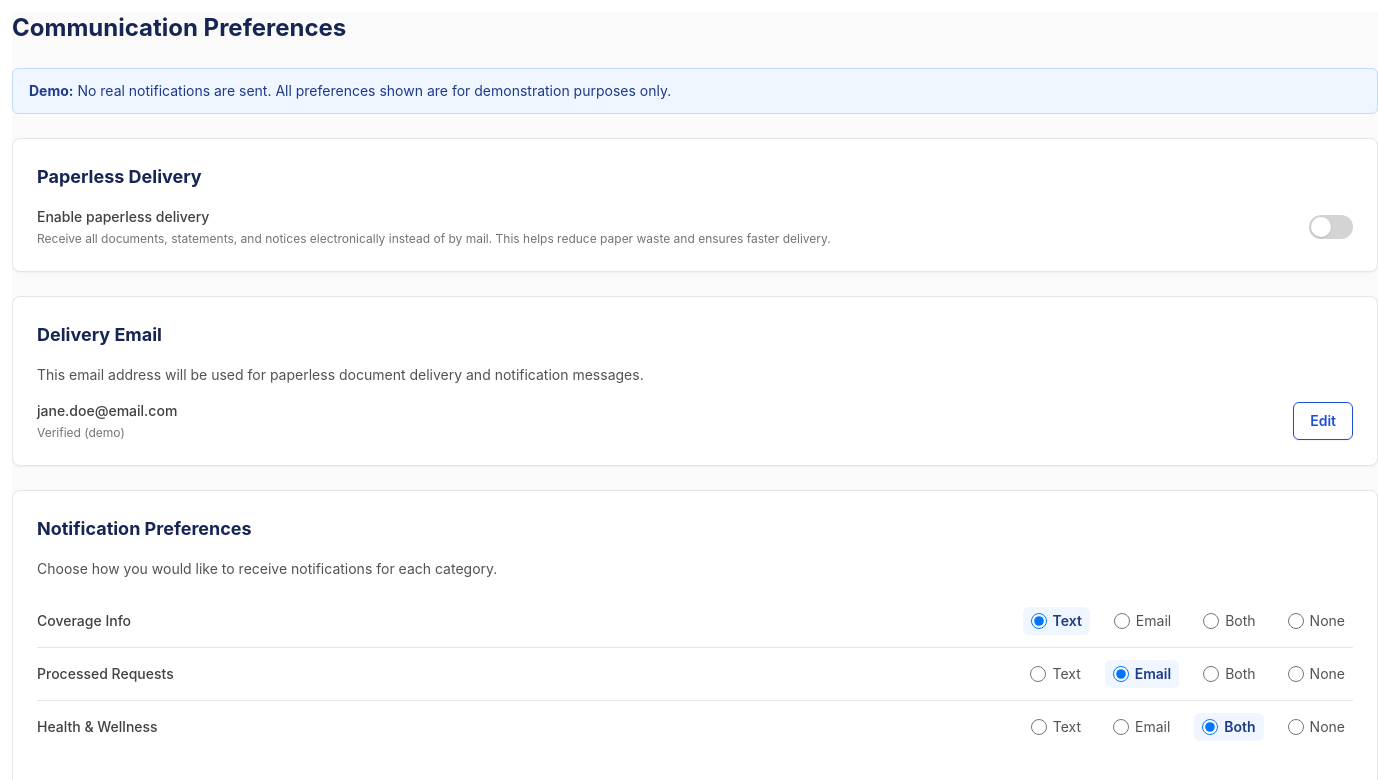
Scenario: CommunicationPreferencesPage › shows email edit form when Edit is clicked
The width and height of the screenshot is (1378, 780).
# Click the edit button in the delivery email section
Click the button "Edit" at {"x": 1323, "y": 421}, box [1293,402,1353,440]
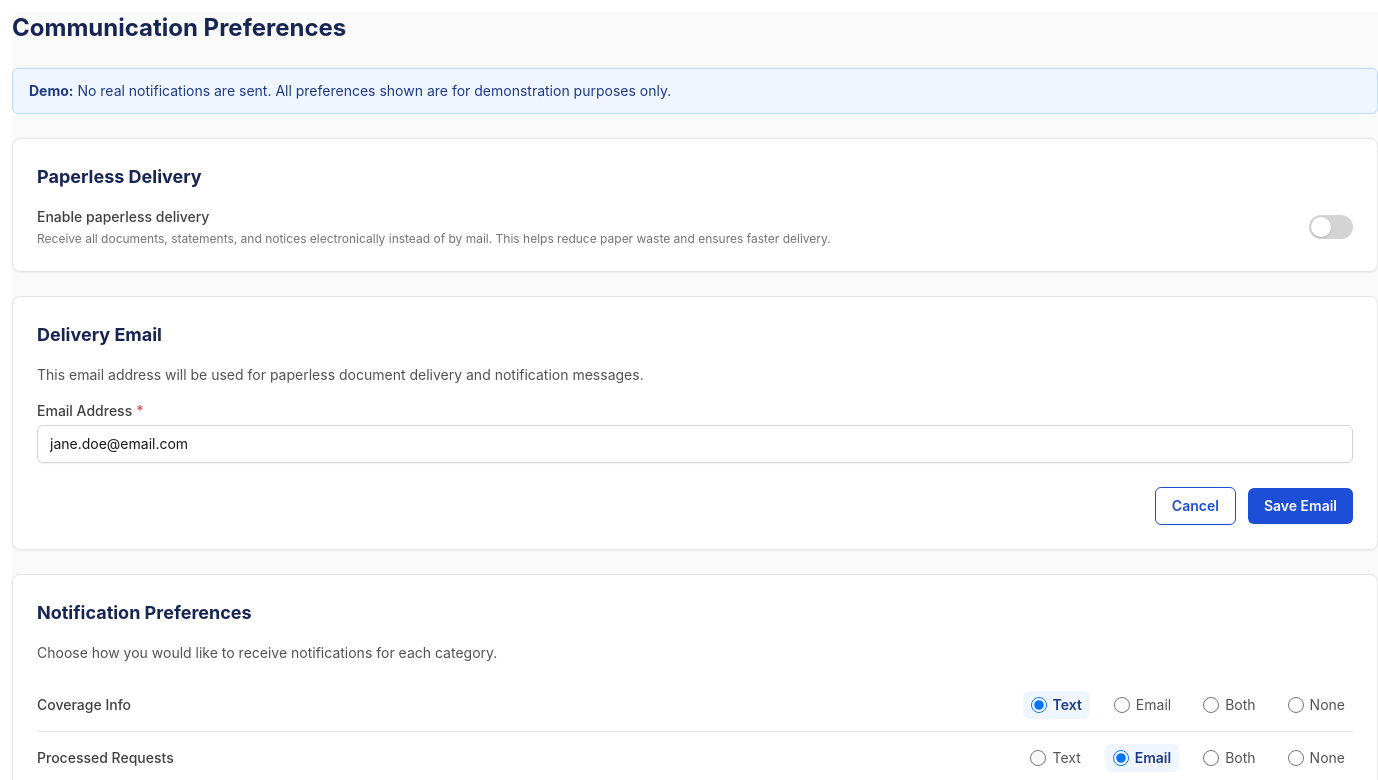
expect the field labelled "Email Address*" holds "jane.doe@email.com": met, box [37,425,1353,463]
